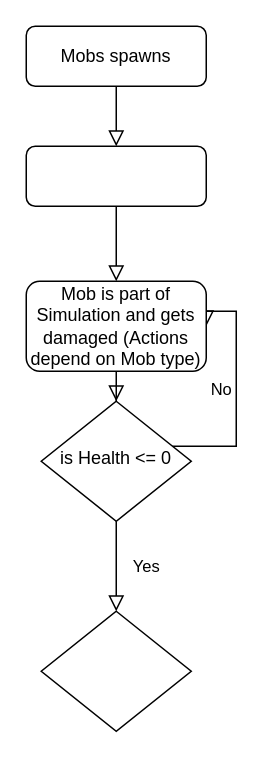
The diagram is 278 pixels wide and 758 high, and some of its shapes have lost their labels. Here are the shapes that lost their labels. From the top down, the box of each, then its label:
(25, 145, 206, 206): Send Mob Spawn to all Players
(40, 610, 191, 731): Remove Mob from Game
